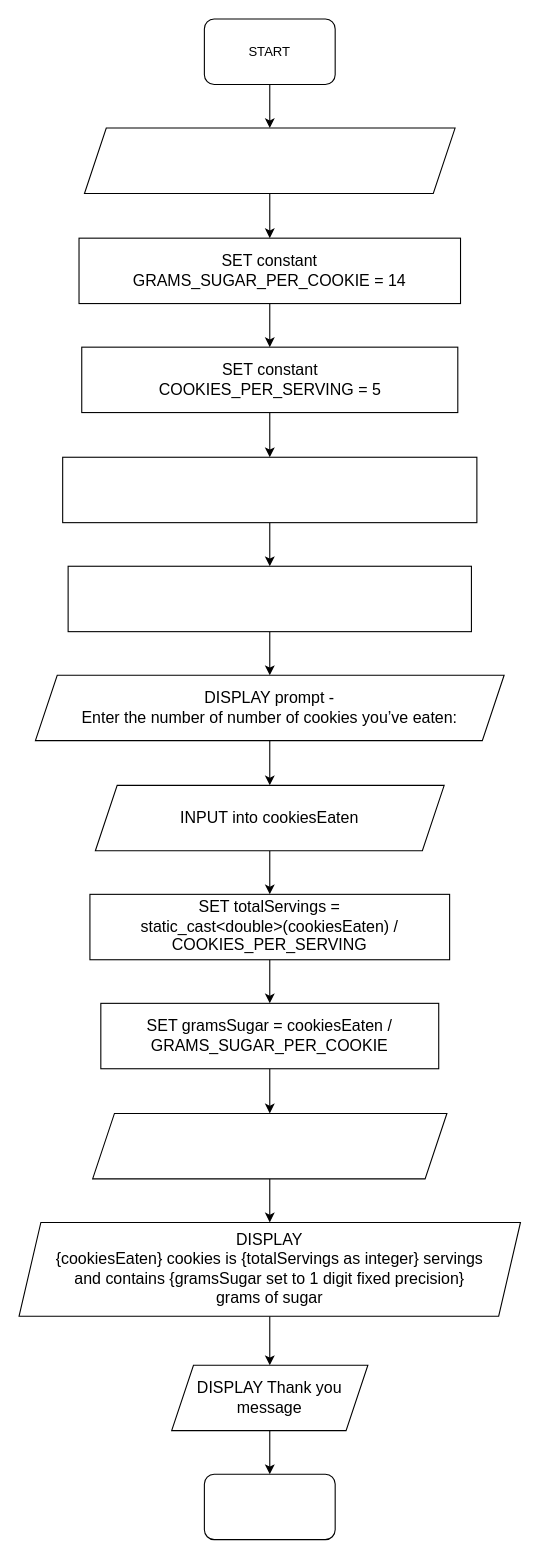
The diagram is 540 pixels wide and 1559 high, and some of its shapes have lost their labels. The centre of each missing label's shape, as x and y in pixels:
"DECLARE variable totalServings as double" goes at point 269,598.
"DECLARE variables cookiesEaten and gramsSugar as integer" goes at point 269,489.
"DISPLAY Welcome Message." goes at point 269,160.
"DISPLAY {cookiesEaten} cookies is {totalServings as integer} serving(s)" goes at point 269,1145.
"END" goes at point 269,1506.
